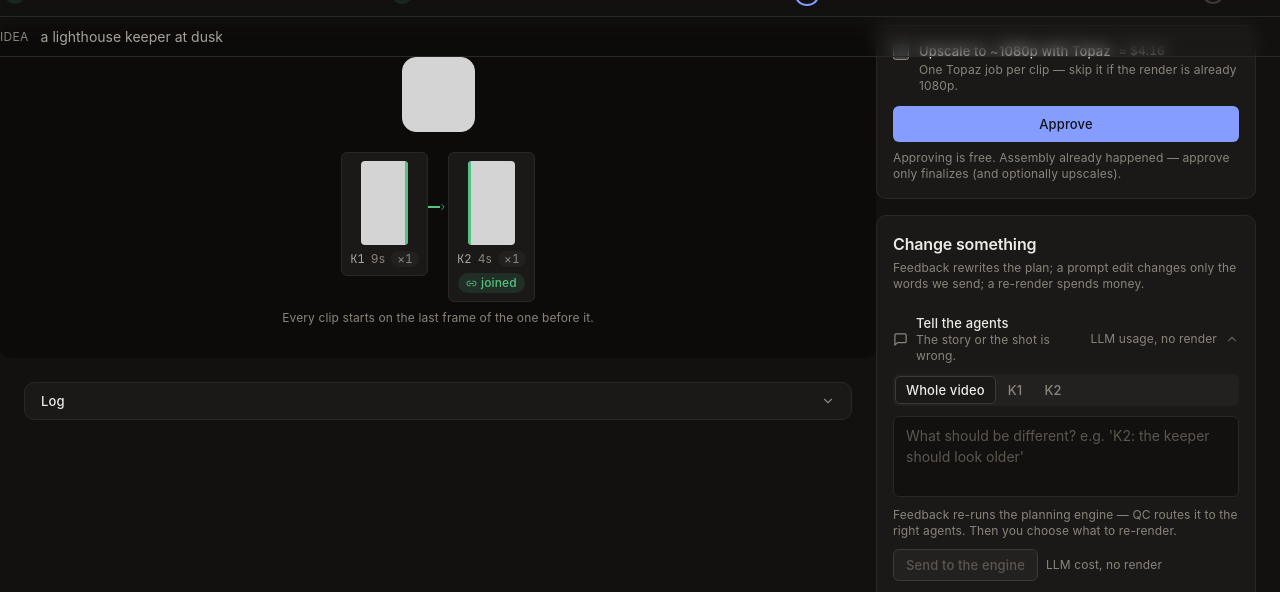
Test: PromptSheet › the version picker lists Current plan plus one entry per take that kept a prompts.json
Check: the element named "Review stage" is shown, box 0,25 -> 876,358
Click the button "K2 4s ×1 joined". click: (491, 227)
box: 448,152 -> 535,302
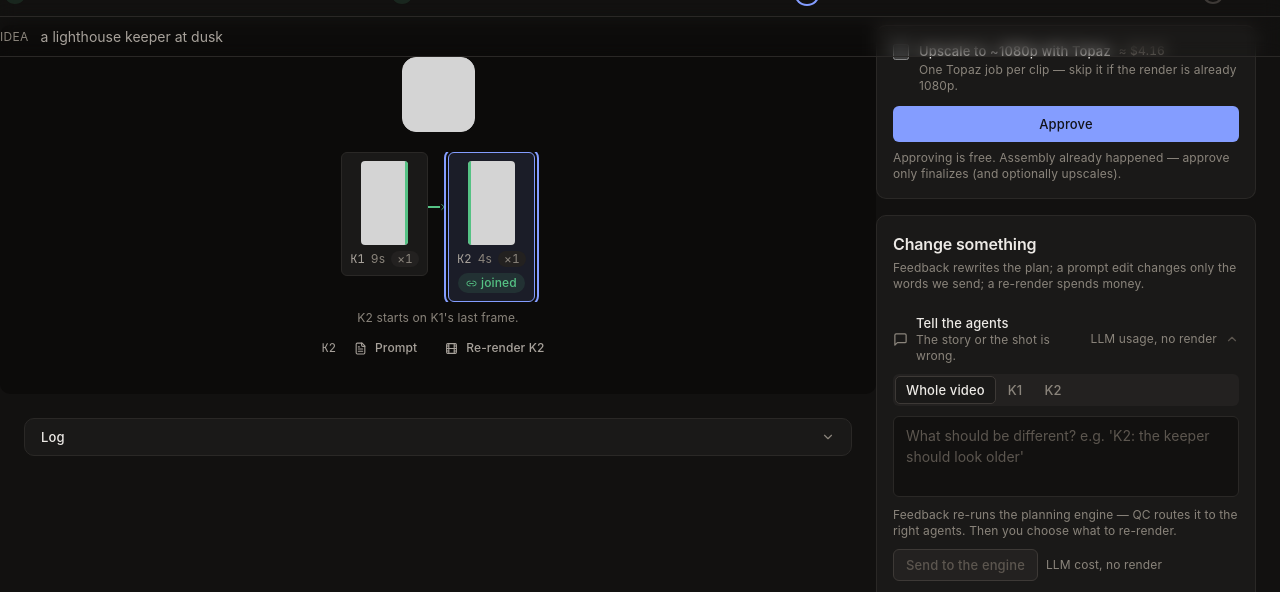
Click the button with aria-label "Prompt for K2". click: (386, 348)
box: 344,334 -> 427,362
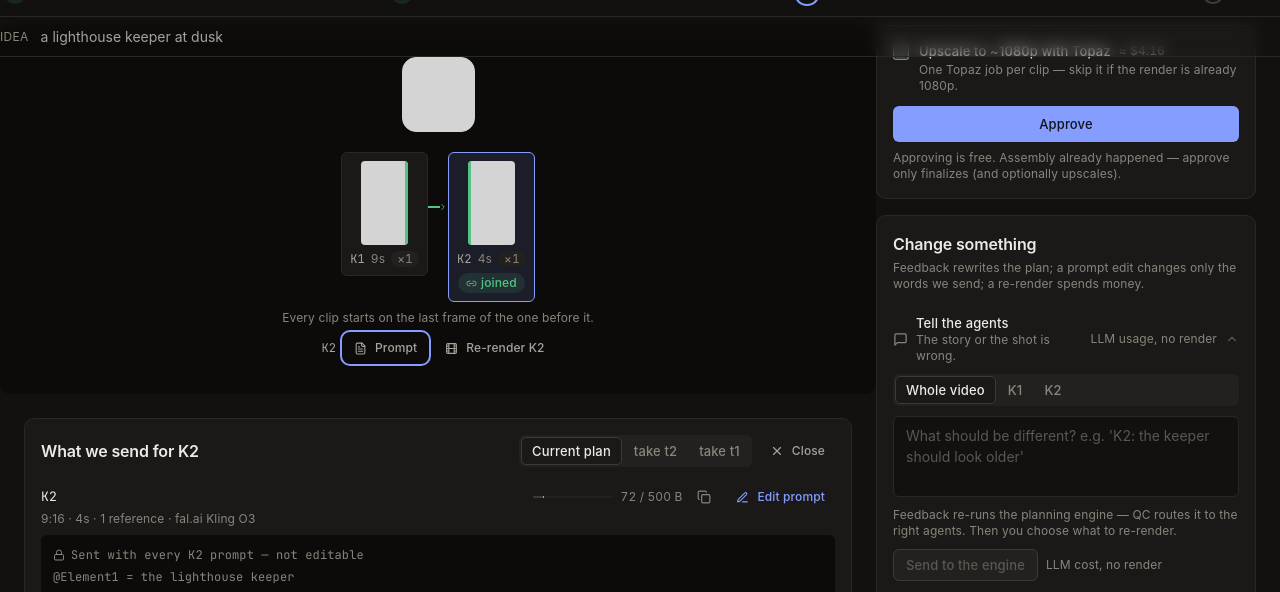
Check: the radio buttons read "Current plan", "take t2", "take t1", in this order
Click the radio button labelled "take t1". click: (719, 451)
box: 689,437 -> 750,465
(page scrolled)
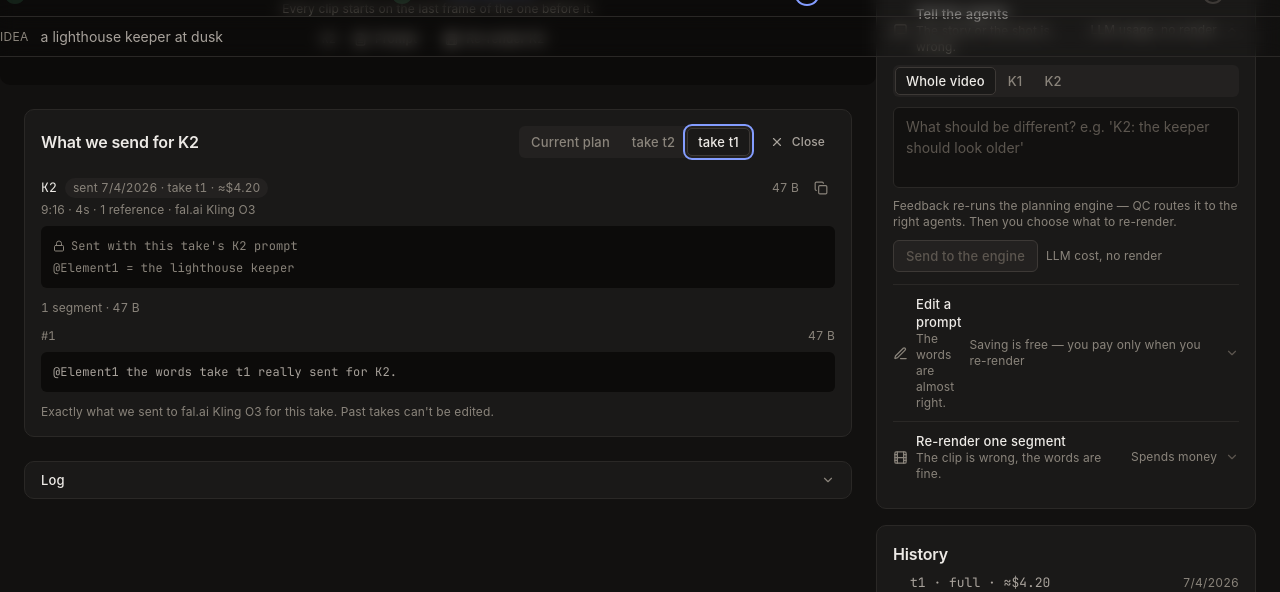
Check: the element with test id "prompt-sheet" shows "the words take t1 really sent for K2", box 53,364 -> 397,380
